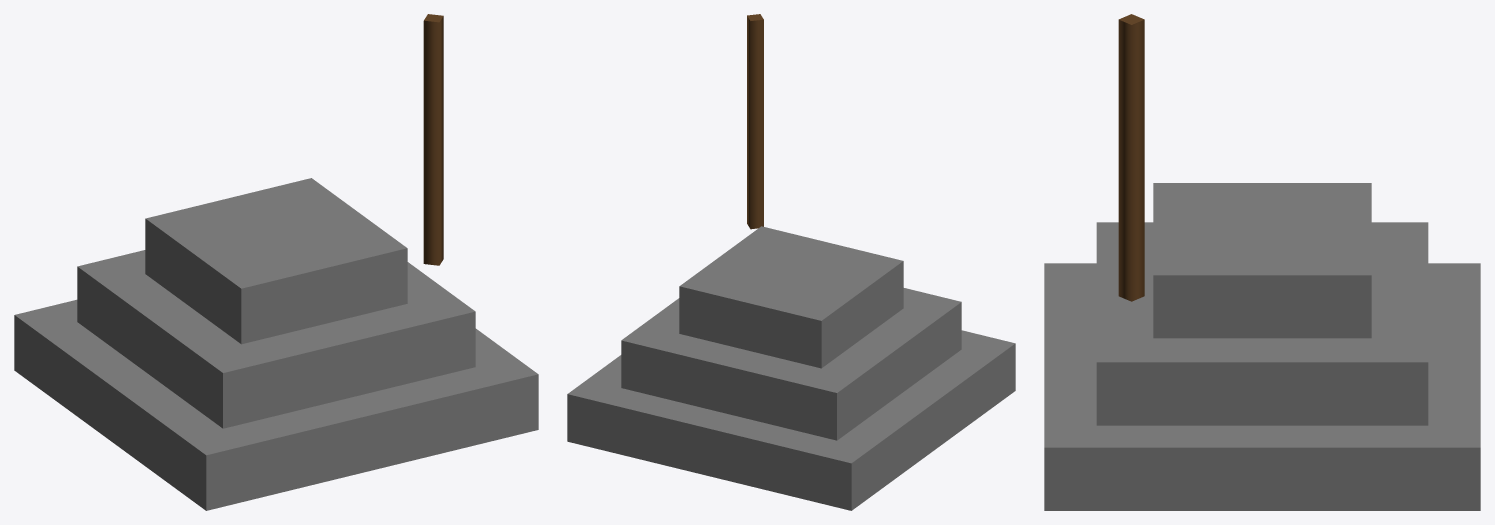
The model's file is quarry.glb.
3 renders of one model, left to right at view 1: azimuth 30°, elevation 25°; view 2: azimuth 150°, elevation 25°; view 3: azimuth 270°, elevation 25°, orthographic. The views are drawn at different scales.
Parts seen in each view (by area): view 1: node_0, node_1, node_2, node_3; view 2: node_0, node_1, node_2, node_3; view 3: node_0, node_1, node_2, node_3.
Boxes of the visible parts, x1,y1,x2,y2 form: node_0: [14, 299, 538, 510]; node_1: [77, 250, 475, 428]; node_2: [145, 178, 407, 344]; node_3: [423, 14, 443, 265]; node_0: [567, 330, 1015, 510]; node_1: [621, 288, 961, 440]; node_2: [679, 226, 903, 368]; node_3: [747, 14, 763, 229]; node_0: [1044, 263, 1480, 510]; node_1: [1096, 222, 1428, 425]; node_2: [1153, 183, 1371, 338]; node_3: [1118, 14, 1144, 301].
Bounding box in the file's own units: 0.5 × 0.575 × 0.5.
